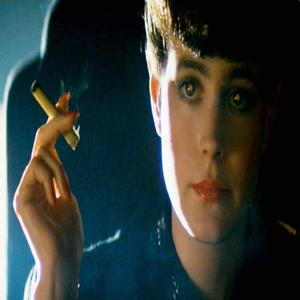cigarette: (31, 78, 82, 151)
